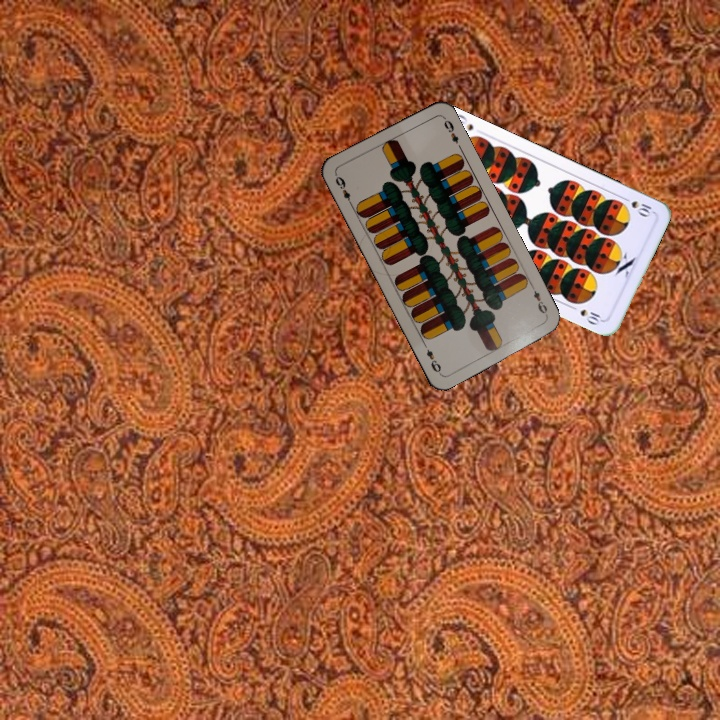E9: (331, 172, 355, 209), (527, 282, 550, 320)
S10: (618, 193, 656, 220)
